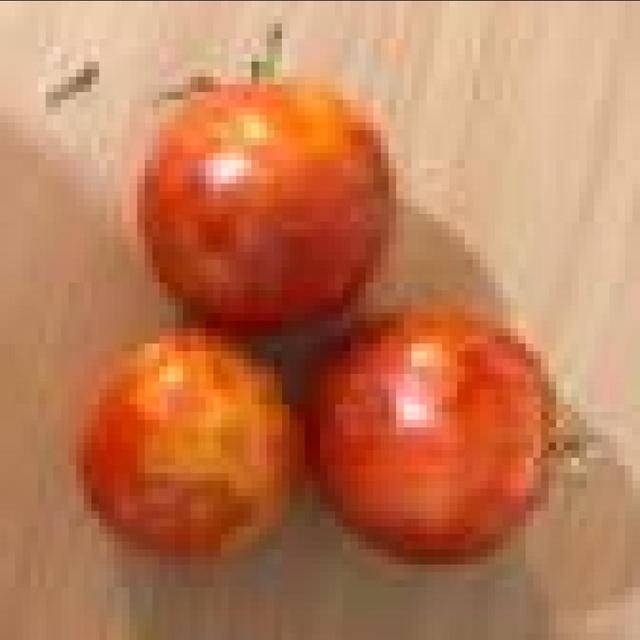Spotted wilt Virus Fruit: (127, 136, 292, 294)
